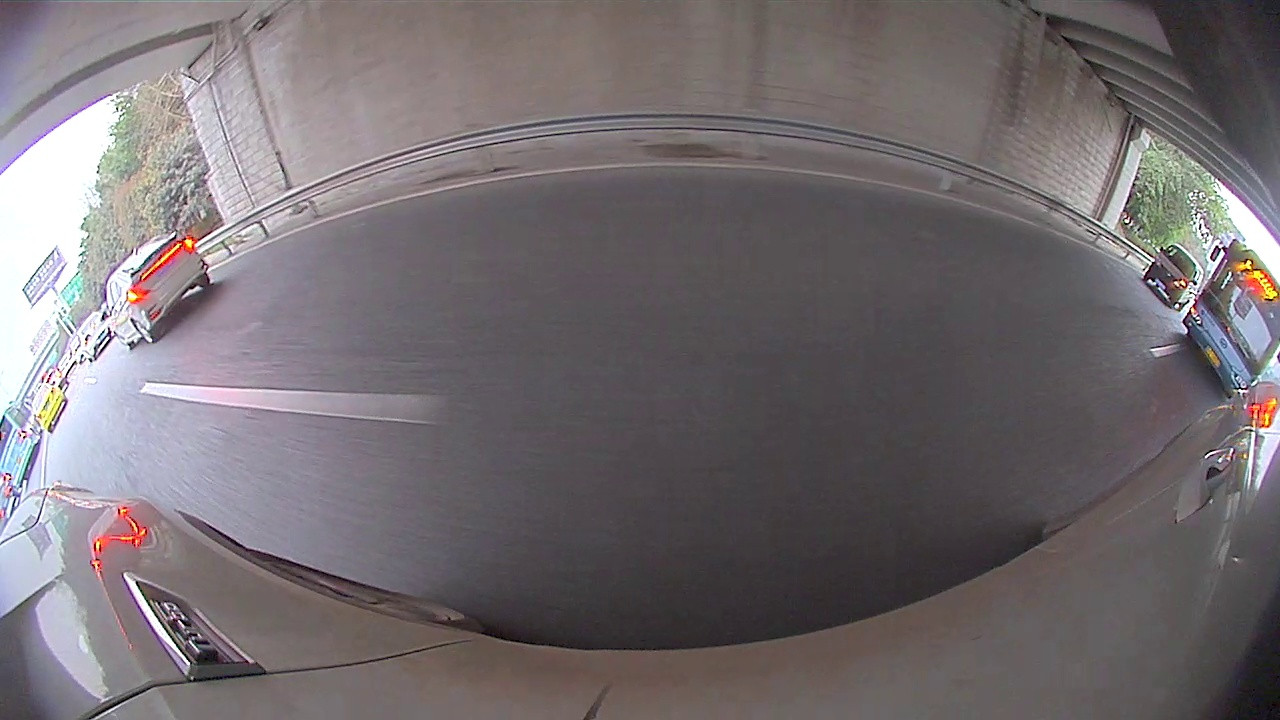bus: (1183, 234, 1276, 402)
car: (100, 230, 212, 353), (1138, 242, 1209, 313), (26, 380, 70, 432)
rear: (132, 320, 157, 347)
